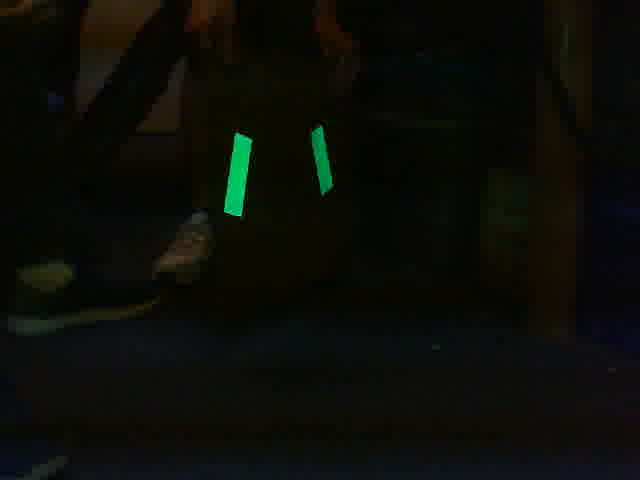target: (223, 126, 335, 218)
